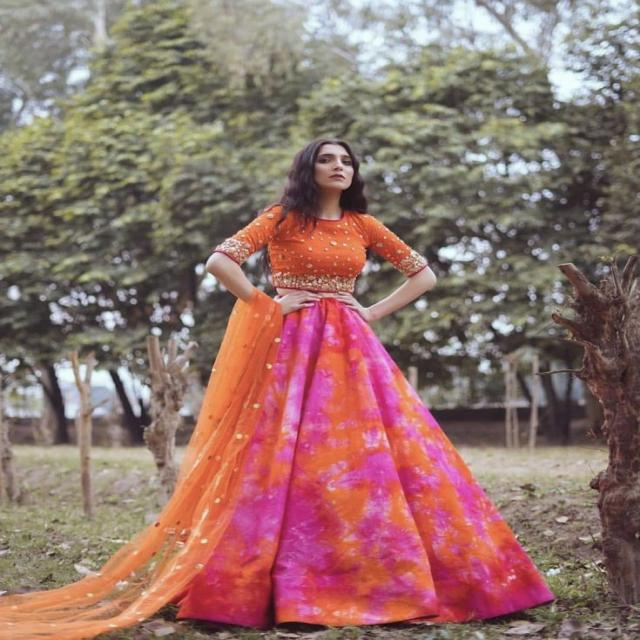female-dress: (231, 202, 482, 608), (183, 300, 508, 611), (237, 208, 400, 289)
